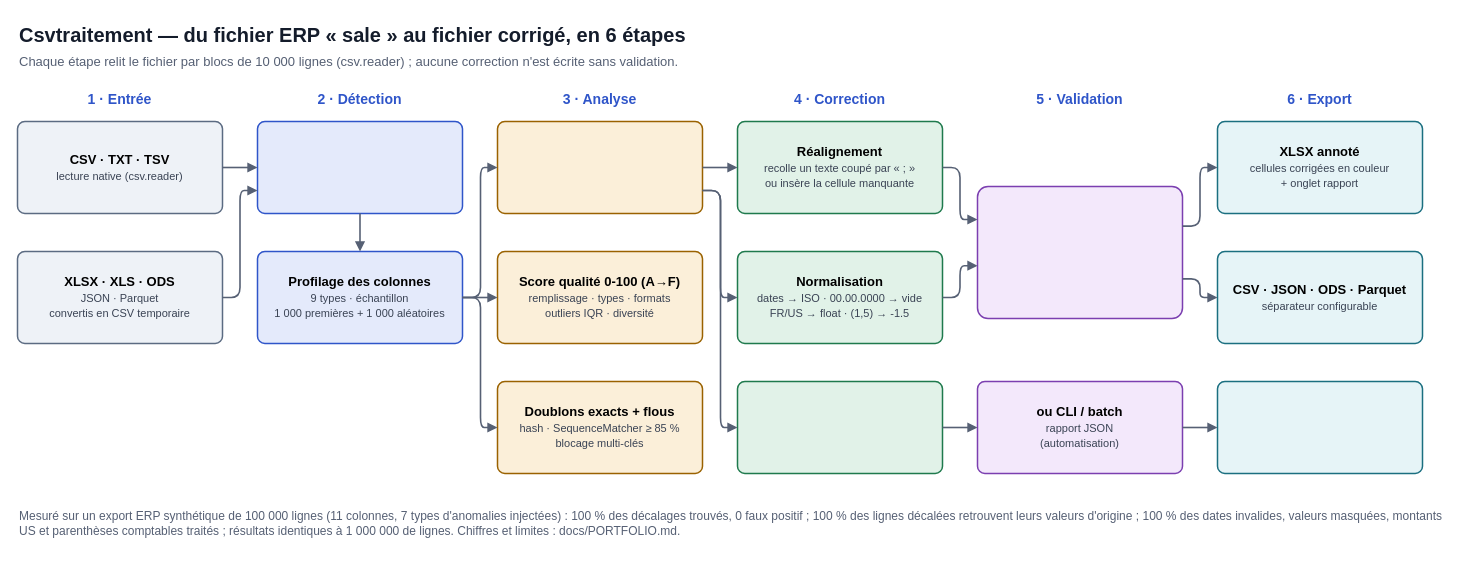
This 1475x570 diagram has some shape labels left out. Here are the shapes that lost their labels. From the top down, the centre of each, then its label:
the point at 359,167: Encodage + séparateur BOM / chardet · score moyenne / (1 + écart-type)
the point at 599,167: Décalages de colonnes ligne + colonne fautive extra / missing / type
the point at 1079,252: Revue humaine GUI Tkinter 8 onglets preview avant / après undo / redo
the point at 839,427: Valeurs masquées #REF! · N/A · NULL → vide masquage PII optionnel
the point at 1319,427: Écriture via fichier temporaire local (lecteurs réseau / cloud)
